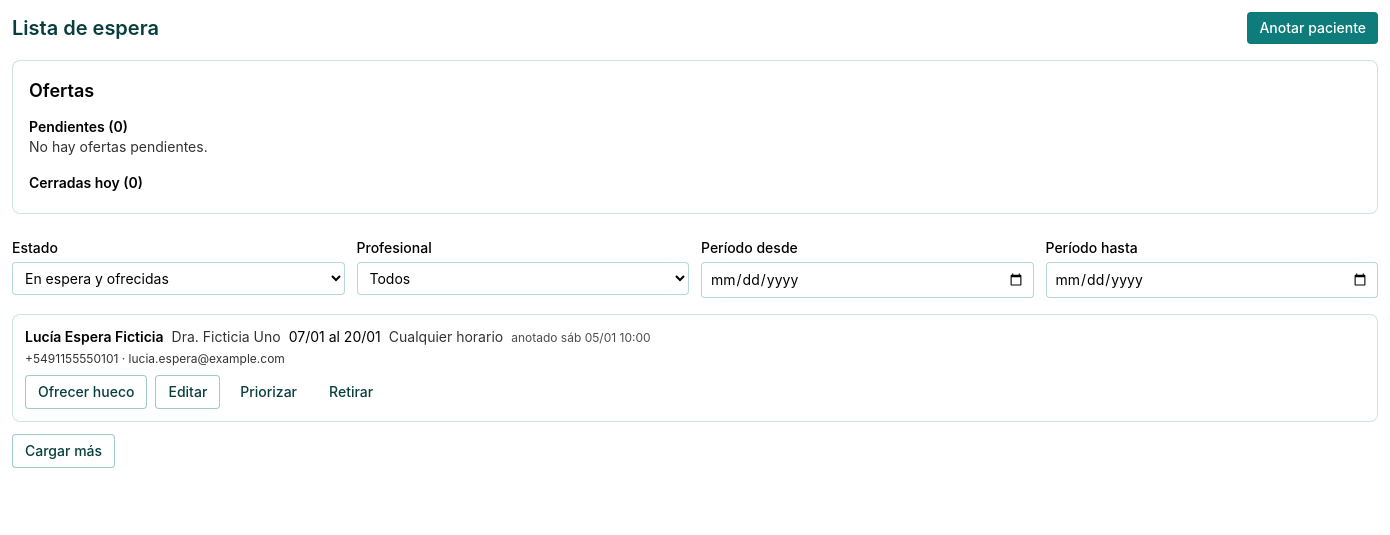
Test: WaitingListPage › Cargar más pide la página siguiente con el cursor
Expected: the text "Lucía Espera Ficticia" is shown, [25,327,164,347]
Click the button "Cargar más".
click(64, 451)  # box [12,434,115,468]
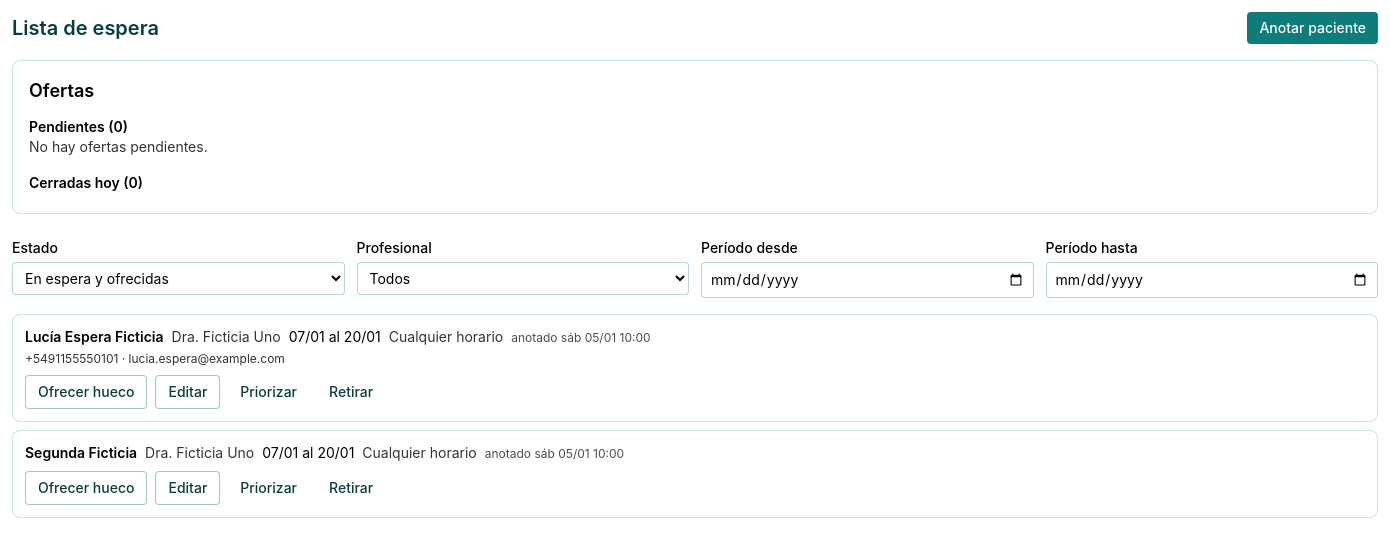
Expected: the text "Segunda Ficticia" is shown, [25,443,137,463]
Expected: the button "Cargar más" is gone
